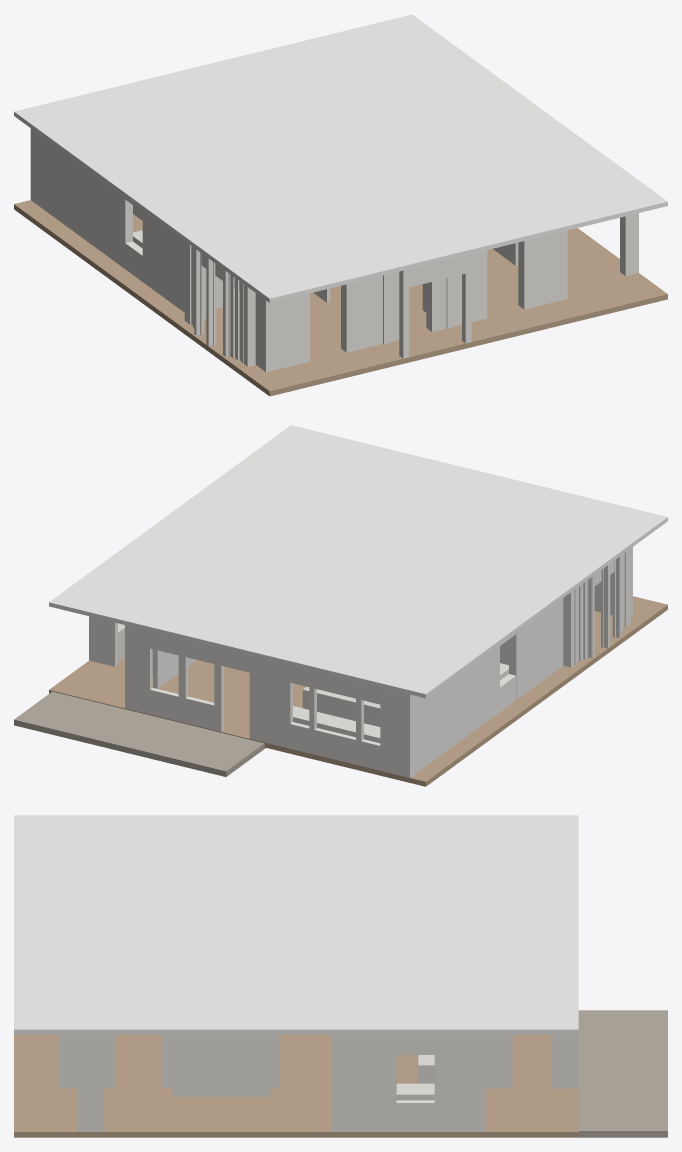
Rendered from a1-first-floor.glb.
The picture shows the model from 3 angles, top to bottom: view 1: azimuth 30°, elevation 25°; view 2: azimuth 150°, elevation 25°; view 3: azimuth 270°, elevation 25°; orthographic projection. The views are drawn at different scales.
Visible parts, largest first — view 1: a1_first_floor; view 2: a1_first_floor; view 3: a1_first_floor.
Boxes of the visible parts, box(x1,y1,x2,y2) form: a1_first_floor: box(14, 14, 667, 396); a1_first_floor: box(14, 425, 667, 786); a1_first_floor: box(14, 815, 667, 1137).
Size of the model in its own units: 12.13 by 2.9 by 15.63.
